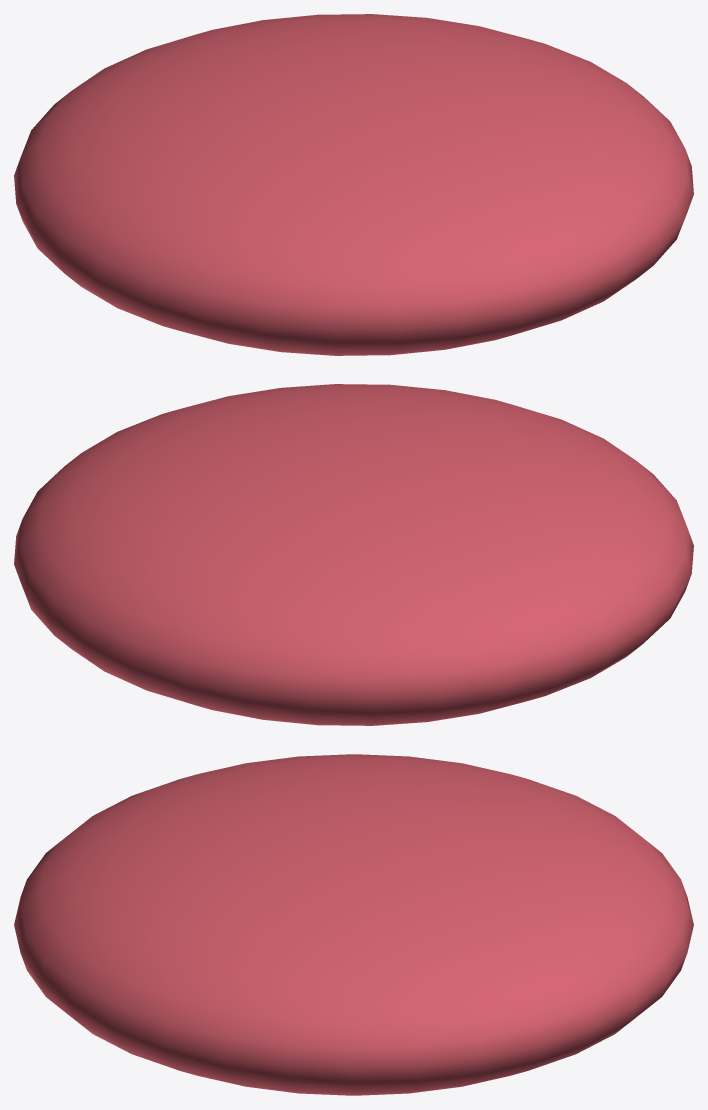
The model's file is patty.fbx.
3 views of the same model, one above another, from view 1: azimuth 30°, elevation 25°; view 2: azimuth 150°, elevation 25°; view 3: azimuth 270°, elevation 25° (orthographic).
Parts seen in each view (by area): view 1: Sphere; view 2: Sphere; view 3: Sphere.
Boxes of the visible parts, x1,y1,x2,y2 form: Sphere: (14,14,693,355); Sphere: (14,384,693,725); Sphere: (14,754,693,1095).
Bounding box in the file's own units: 100 × 30 × 100.
